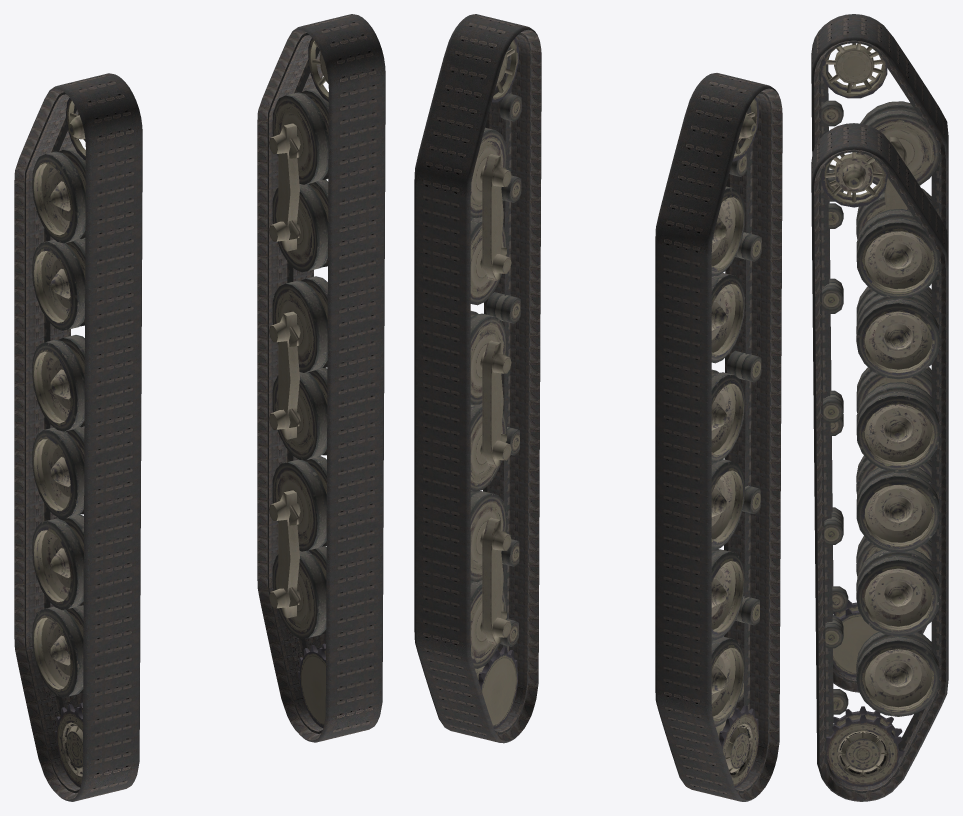
The model's file is Chassis.glb.
The picture shows the model from 3 angles, left to right: view 1: azimuth 30°, elevation 25°; view 2: azimuth 150°, elevation 25°; view 3: azimuth 270°, elevation 25°; orthographic projection. The views are drawn at different scales.
Visible parts, largest first — view 1: set_0_group_0, set_1_group_0, set_3_group_0, set_2_group_0; view 2: set_0_group_0, set_1_group_0, set_3_group_0, set_2_group_0; view 3: set_3_group_0, set_1_group_0, set_2_group_0, set_0_group_0.
Part boxes in pixels (x1=…): set_0_group_0: x1=14, y1=73, x2=142, y2=801; set_1_group_0: x1=257, y1=14, x2=385, y2=742; set_3_group_0: x1=269, y1=38, x2=328, y2=728; set_2_group_0: x1=32, y1=98, x2=85, y2=787; set_0_group_0: x1=655, y1=73, x2=782, y2=801; set_1_group_0: x1=414, y1=14, x2=541, y2=743; set_3_group_0: x1=470, y1=37, x2=521, y2=729; set_2_group_0: x1=711, y1=97, x2=761, y2=787; set_3_group_0: x1=821, y1=152, x2=938, y2=786; set_1_group_0: x1=811, y1=123, x2=948, y2=801; set_2_group_0: x1=821, y1=43, x2=938, y2=677; set_0_group_0: x1=811, y1=14, x2=948, y2=692.
Size of the model in its own units: 3.21 by 7.3 by 1.38.
4 materials, 4 textured.
